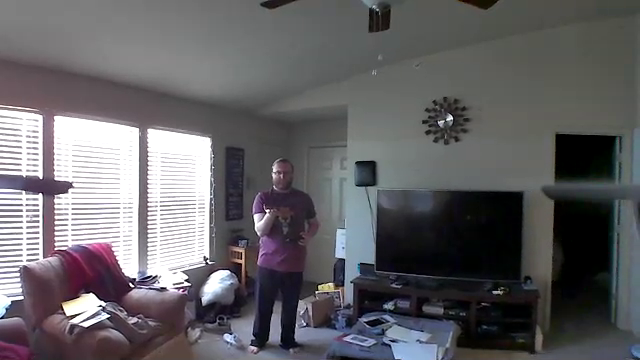land: (261, 204, 281, 218)
